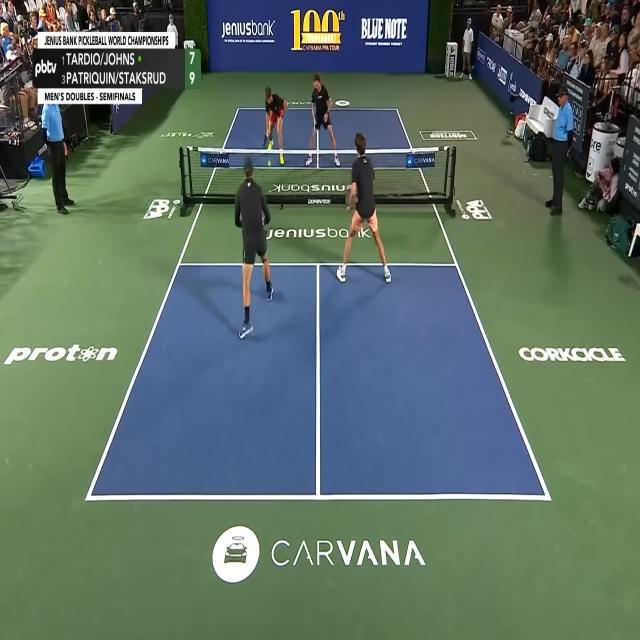ball: (268, 160, 271, 167)
